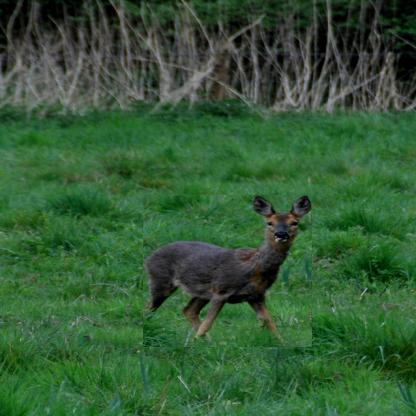Deer: (143, 195, 312, 347)
